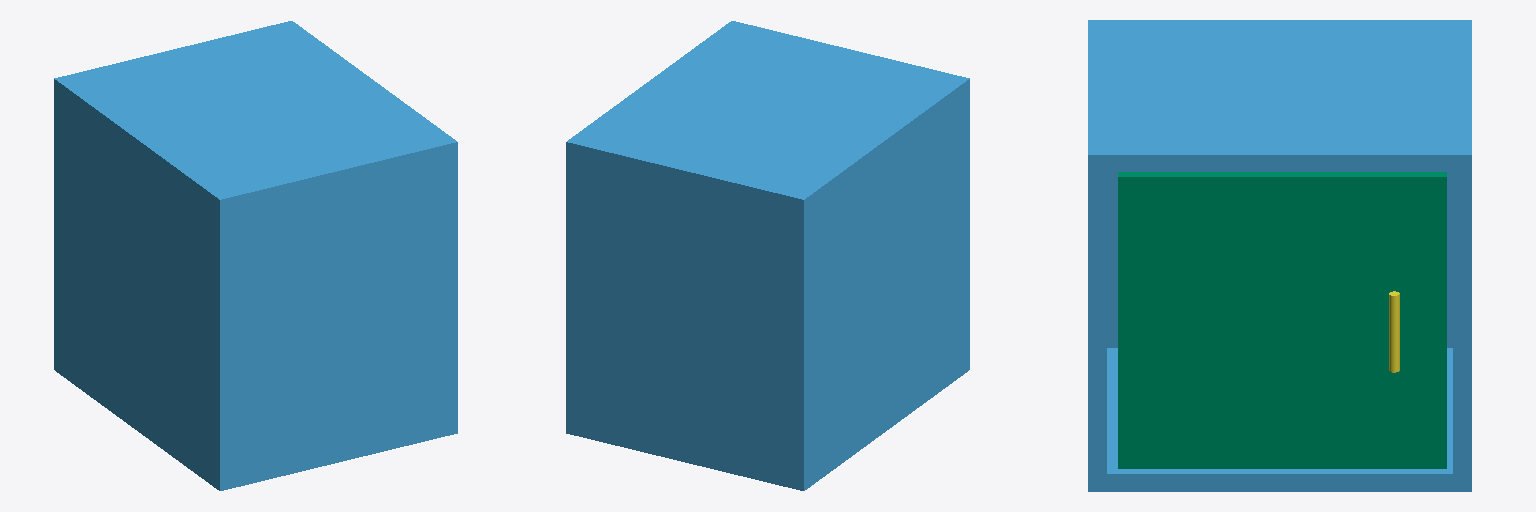
The robot description file, URDF, robot "my_cabinet":
<?xml version="1.0" ?>
<robot name="my_cabinet">
	<link name="world"/>
	<joint name="virtual_joint" type="fixed">
		<parent link="world"/>
		<child link="base_cabinet_link"/>
		<origin xyz="0.0 0.0 0.0" rpy="0.0 0.0 0.0"/>
	</joint>
	<link name="base_cabinet_link">
		<visual>
			<origin xyz="0.0 -0.0025 -0.16656616742679672" rpy="0.0 0.0 0.0"/>
			<geometry>
				<box size="0.3 0.3621470823559642 0.018"/>
			</geometry>
		</visual>
		<collision name="base_cabinet_link_collision_0">
			<origin xyz="0.0 -0.0025 -0.16656616742679672" rpy="0.0 0.0 0.0"/>
			<geometry>
				<box size="0.3 0.3621470823559642 0.018"/>
			</geometry>
		</collision>
		<visual>
			<origin xyz="0.0 0.16957354117798212 0.0" rpy="0.0 0.0 0.0"/>
			<geometry>
				<box size="0.3 0.018 0.35113233485359346"/>
			</geometry>
		</visual>
		<collision name="base_cabinet_link_collision_1">
			<origin xyz="0.0 0.16957354117798212 0.0" rpy="0.0 0.0 0.0"/>
			<geometry>
				<box size="0.3 0.018 0.35113233485359346"/>
			</geometry>
		</collision>
		<visual>
			<origin xyz="0.0 -0.17457354117798213 0.0" rpy="0.0 0.0 0.0"/>
			<geometry>
				<box size="0.3 0.018 0.35113233485359346"/>
			</geometry>
		</visual>
		<collision name="base_cabinet_link_collision_2">
			<origin xyz="0.0 -0.17457354117798213 0.0" rpy="0.0 0.0 0.0"/>
			<geometry>
				<box size="0.3 0.018 0.35113233485359346"/>
			</geometry>
		</collision>
		<visual>
			<origin xyz="0.0 -0.0025 0.16656616742679672" rpy="0.0 0.0 0.0"/>
			<geometry>
				<box size="0.3 0.3621470823559642 0.018"/>
			</geometry>
		</visual>
		<collision name="base_cabinet_link_collision_3">
			<origin xyz="0.0 -0.0025 0.16656616742679672" rpy="0.0 0.0 0.0"/>
			<geometry>
				<box size="0.3 0.3621470823559642 0.018"/>
			</geometry>
		</collision>
		<visual>
			<origin xyz="-0.141 -0.0025 0.0" rpy="0.0 0.0 0.0"/>
			<geometry>
				<box size="0.018 0.3621470823559642 0.35113233485359346"/>
			</geometry>
		</visual>
		<collision name="base_cabinet_link_collision_4">
			<origin xyz="-0.141 -0.0025 0.0" rpy="0.0 0.0 0.0"/>
			<geometry>
				<box size="0.018 0.3621470823559642 0.35113233485359346"/>
			</geometry>
		</collision>
		<inertial>
			<mass value="0.200000"/>
			<inertia ixx="0.004241" ixy="0.0" ixz="0.0" iyy="0.003555" iyz="0.0" izz="0.003686"/>
		</inertial>
	</link>
	<link name="door_link">
		<visual>
			<origin xyz="0.0 -0.1555735411779821 0.0"/>
			<geometry>
				<box size="0.018 0.3111470823559642 0.3051323348535934"/>
			</geometry>
		</visual>
		<collision name="door_link_collision">
			<origin xyz="0.0 -0.1555735411779821 0.0"/>
			<geometry>
				<box size="0.018 0.3111470823559642 0.3051323348535934"/>
			</geometry>
		</collision>
		<inertial>
			<mass value="0.200000"/>
			<inertia ixx="0.003165" ixy="0.0" ixz="0.0" iyy="0.001557" iyz="0.0" izz="0.001619"/>
		</inertial>
	</link>
	<joint name="door_joint" type="revolute">
		<origin xyz="0.141 -0.1555735411779821 0.0" rpy="0.000000 -0.000000 3.141593"/>
		<axis xyz="0 0 1"/>
		<parent link="base_cabinet_link"/>
		<child link="door_link"/>
		<limit effort="50" lower="-1.658062789394613" upper="0" velocity="10"/>
		<dynamics friction="3.5" damping="3.5"/>
	</joint>
	<link name="handle_link">
		<visual>
			<origin xyz="0.0 0.0 0.0" rpy="0.0 0.0 0.0"/>
			<geometry>
				<cylinder length="0.08" radius="0.005"/>
			</geometry>
		</visual>
		<collision name="handle_link_collision_0">
			<origin xyz="0.0 0.0 0.0" rpy="0.0 0.0 0.0"/>
			<geometry>
				<cylinder length="0.08" radius="0.005"/>
			</geometry>
		</collision>
		<visual>
			<origin xyz="-0.01 0.0 0.02" rpy="0.0 1.5707963267948966 0.0"/>
			<geometry>
				<cylinder length="0.02" radius="0.003"/>
			</geometry>
		</visual>
		<collision name="handle_link_collision_1">
			<origin xyz="-0.01 0.0 0.02" rpy="0.0 1.5707963267948966 0.0"/>
			<geometry>
				<cylinder length="0.01" radius="0.003"/>
			</geometry>
		</collision>
		<visual>
			<origin xyz="-0.01 0.0 -0.02" rpy="0.0 1.5707963267948966 0.0"/>
			<geometry>
				<cylinder length="0.02" radius="0.003"/>
			</geometry>
		</visual>
		<collision name="handle_link_collision_2">
			<origin xyz="-0.01 0.0 -0.02" rpy="0.0 1.5707963267948966 0.0"/>
			<geometry>
				<cylinder length="0.02" radius="0.003"/>
			</geometry>
		</collision>
		<inertial>
			<mass value="0.050000"/>
			<inertia ixx="0.000027" ixy="0.0" ixz="0.0" iyy="0.000029" iyz="0.0" izz="0.000003"/>
		</inertial>
	</link>
	<joint name="handle_joint" type="fixed">
		<origin xyz="-0.028999999999999998 -0.26114708235596423 0.0" rpy="0.000000 -0.000000 3.141593"/>
		<parent link="door_link"/>
		<child link="handle_link"/>
	</joint>
	<gazebo reference="base_cabinet_link">
		<sensor name="main_sensor" type="contact">
			<selfCollide>true</selfCollide>
			<alwaysOn>true</alwaysOn>
			<updateRate>5.0</updateRate>
			<material>Gazebo/Red</material>
			<contact>
				<collision>base_cabinet_link_collision_0_collision</collision>
				<collision>base_cabinet_link_collision_1_collision</collision>
				<collision>base_cabinet_link_collision_2_collision</collision>
				<collision>base_cabinet_link_collision_3_collision</collision>
				<collision>base_cabinet_link_collision_4_collision</collision>
			</contact>
			<plugin name="gazebo_ros_bumper_controller" filename="libgazebo_ros_bumper.so">
				<bumperTopicName>/contact</bumperTopicName>
				<frameName>world</frameName>
			</plugin>
		</sensor>
	</gazebo>
	<gazebo reference="door_link">
		<sensor name="main_sensor" type="contact">
			<selfCollide>true</selfCollide>
			<alwaysOn>true</alwaysOn>
			<updateRate>5.0</updateRate>
			<material>Gazebo/Red</material>
			<contact>
				<collision>door_link_collision_collision</collision>
			</contact>
			<plugin name="gazebo_ros_bumper_controller" filename="libgazebo_ros_bumper.so">
				<bumperTopicName>/contact_door</bumperTopicName>
				<frameName>contact_door</frameName>
			</plugin>
		</sensor>
	</gazebo>
	<gazebo reference="door_link">
		<mu>3.0</mu>
		<mu2>3.0</mu2>
		<kp>10000000</kp>
		<kd>100</kd>
	</gazebo>
</robot>

--- What the picture shows (computed from the rendered views, not written in the file) ---
The picture shows the robot from 3 angles, left to right: view 1: azimuth 30°, elevation 25°; view 2: azimuth 150°, elevation 25°; view 3: azimuth 270°, elevation 25°; orthographic projection.
Model my_cabinet with 4 links and 3 joints (1 revolute, 2 fixed), rooted at world, posed all joints at 0.
Visible links, largest first — view 1: base_cabinet_link; view 2: base_cabinet_link; view 3: door_link, base_cabinet_link, handle_link.
Boxes of the visible links, <box> form: base_cabinet_link: <box>54,21,457,490</box>; base_cabinet_link: <box>566,21,969,490</box>; door_link: <box>1118,172,1446,468</box>; base_cabinet_link: <box>1088,20,1471,491</box>; handle_link: <box>1389,291,1399,372</box>.
Bounding box of the posed robot: 0.325 × 0.3621 × 0.3511 m (x, y, z).
Geometry: primitives only (box / cylinder / sphere), no mesh files.
